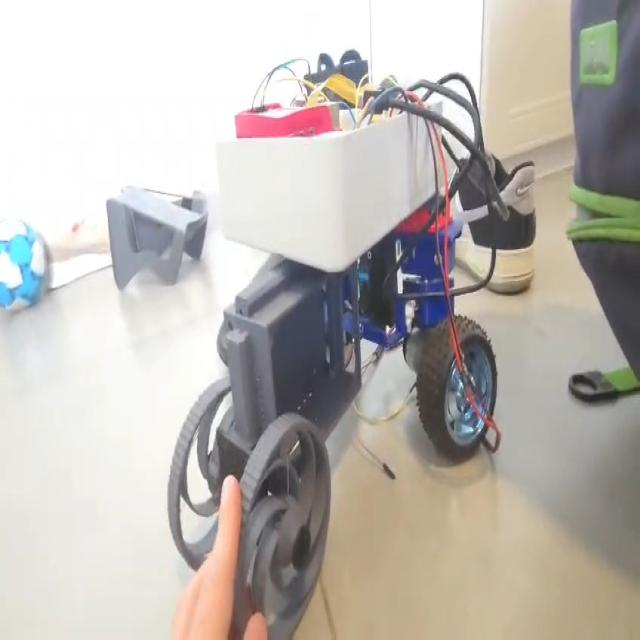Robot: (160, 57, 508, 636)
